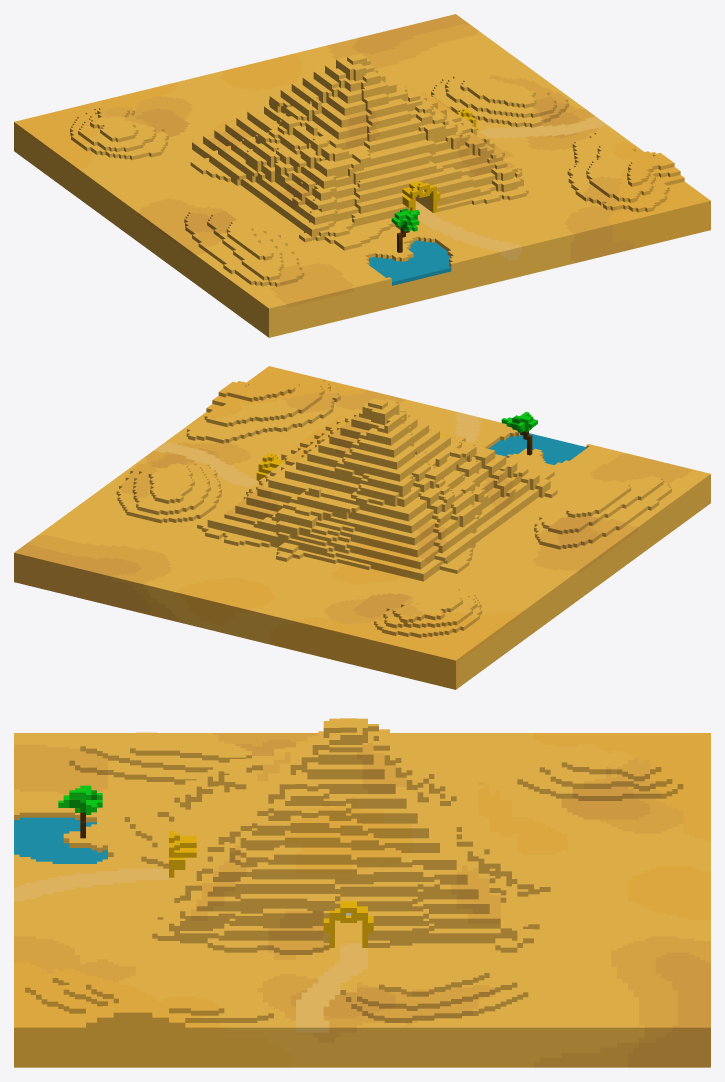
Rendered from Egypt-9.obj.
3 views of the same model, one above another, from view 1: azimuth 30°, elevation 25°; view 2: azimuth 150°, elevation 25°; view 3: azimuth 270°, elevation 25° (orthographic). The views are drawn at different scales.
Size of the model in its own units: 12.6 by 3.8 by 12.6.
Materials: 1 (1 with a texture image).
